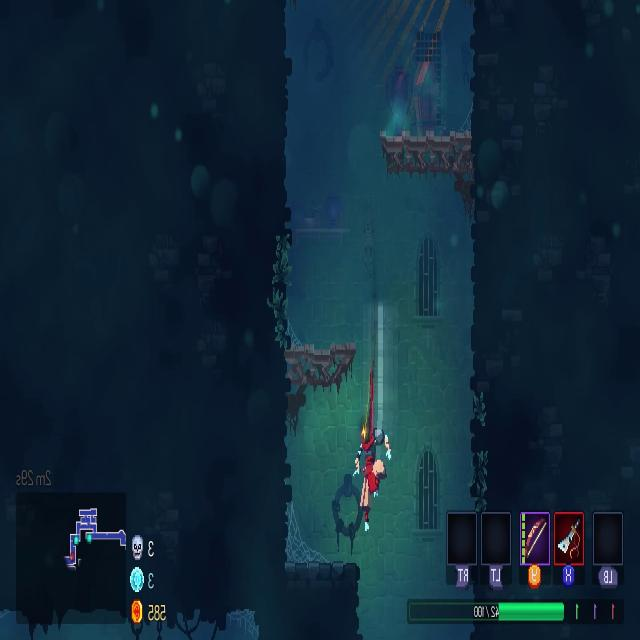agents: (351, 418, 388, 534)
wood_floor: (378, 117, 473, 191), (279, 337, 357, 394)
